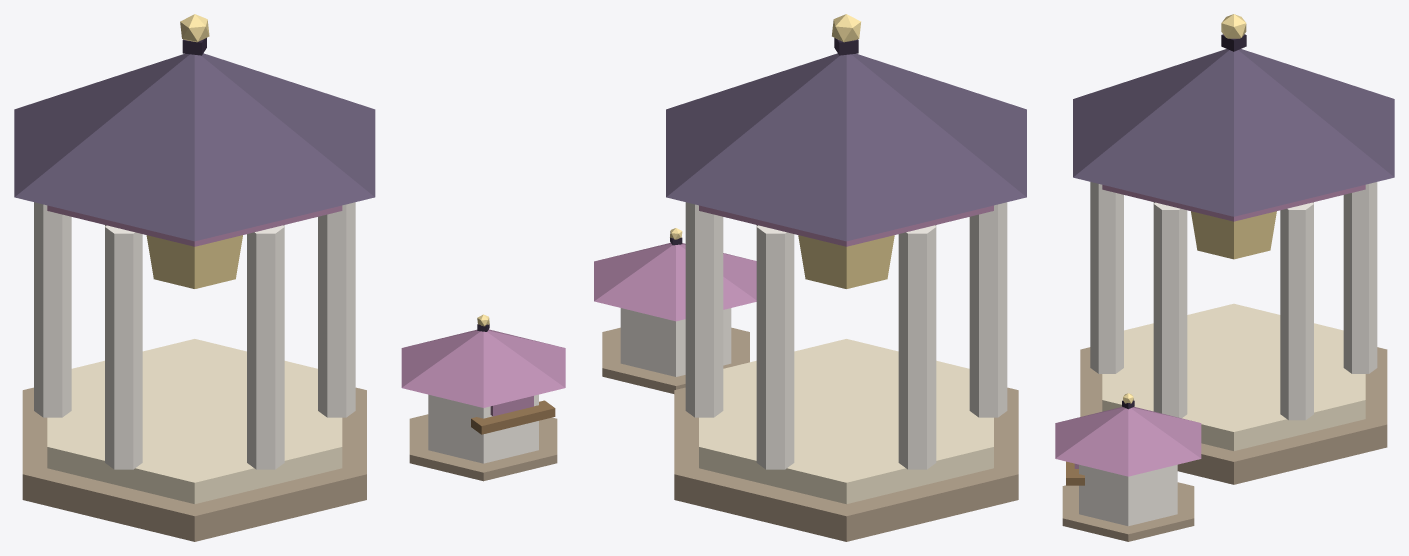
The model's file is city-landmark-s2c.glb.
3 views of the same model, side by side, from view 1: azimuth 30°, elevation 25°; view 2: azimuth 150°, elevation 25°; view 3: azimuth 270°, elevation 25° (orthographic). The views are drawn at different scales.
Parts seen in each view (by area): view 1: city-landmark-s2c; view 2: city-landmark-s2c; view 3: city-landmark-s2c.
Part boxes in pixels (x1,y1,x2,y2): city-landmark-s2c: (14,14,565,541); city-landmark-s2c: (594,14,1026,541); city-landmark-s2c: (1055,14,1394,541).
Bounding box in the file's own units: 1.2 × 1.03 × 0.8043.
